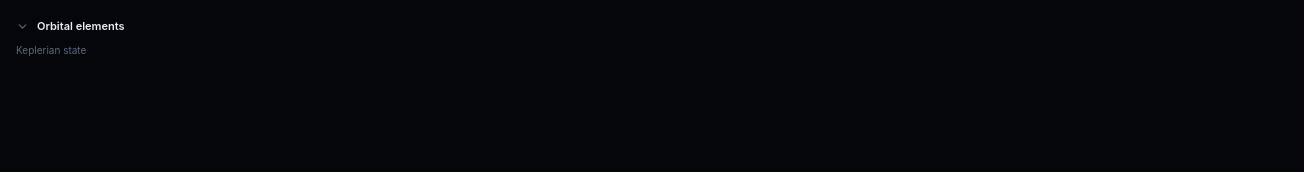
feedback primitives › CollapsibleSection toggles aria-expanded and panel visibility by pointer and keyboard
The width and height of the screenshot is (1304, 172).
Later steps or results of the test are not shown.
Step 1. Click the button "Orbital elements" → (81, 26), box [12,12,1292,40]
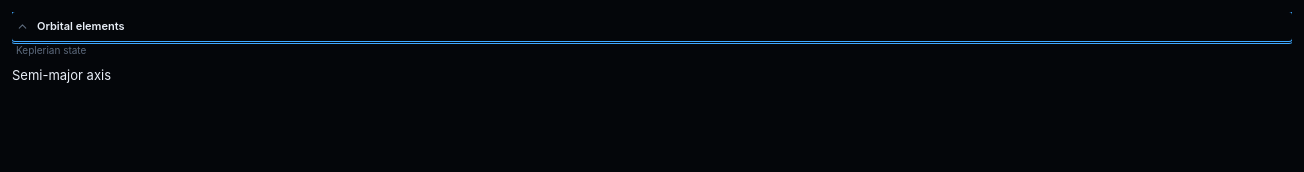
Check: the text "Semi-major axis" is shown, box [12,66,111,82]
